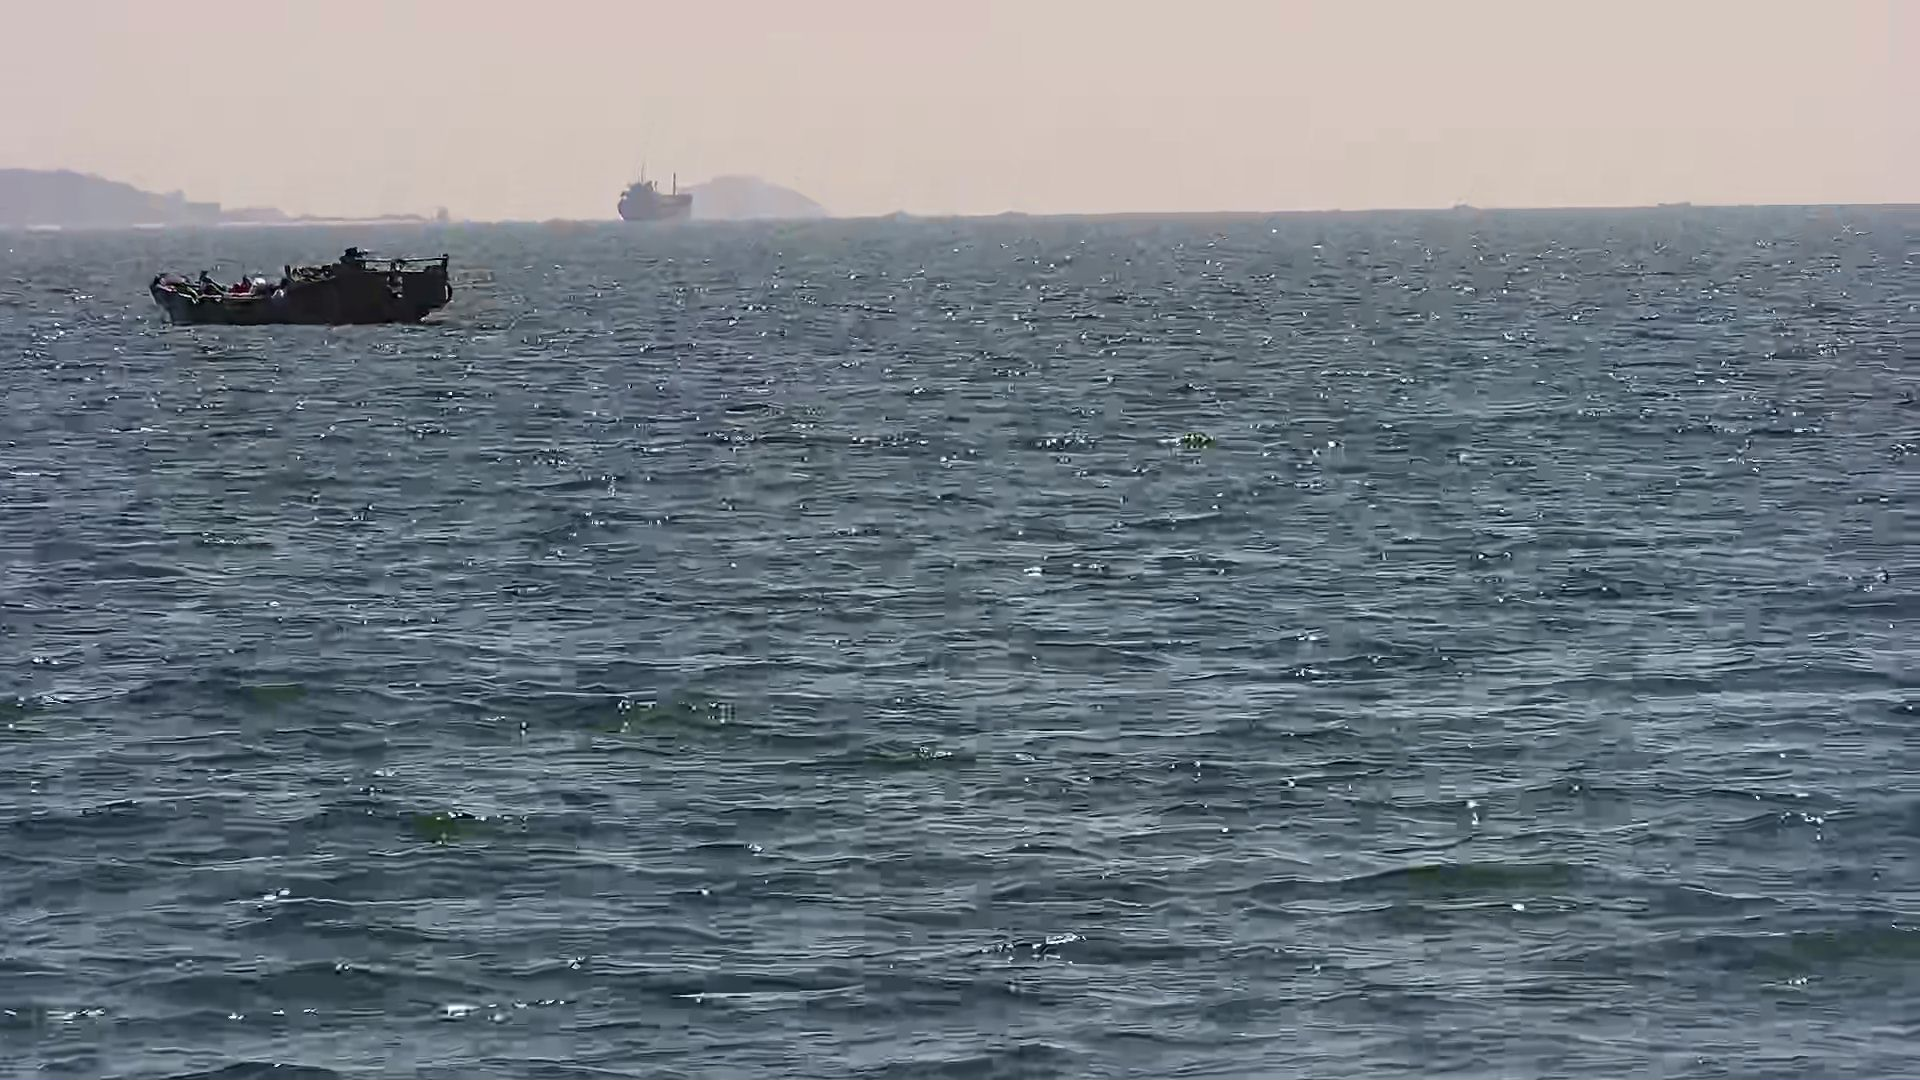boat: (153, 256, 448, 332)
ship: (611, 181, 698, 222)
